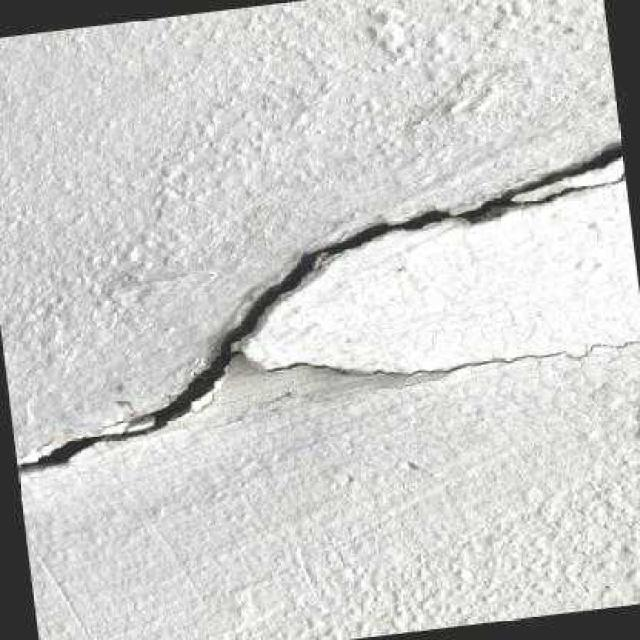D00: (15, 143, 622, 471), (266, 340, 638, 377), (523, 168, 625, 204)
